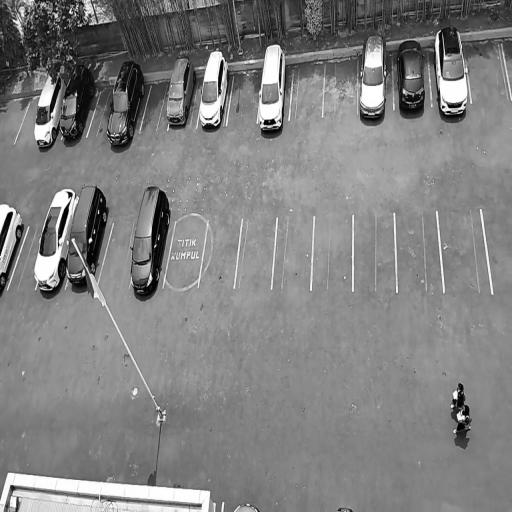Car: (30, 187, 80, 298), (64, 181, 113, 292), (128, 183, 174, 301), (102, 60, 150, 149), (432, 24, 471, 121), (57, 60, 99, 145), (256, 41, 290, 137), (30, 69, 68, 152), (198, 47, 233, 131), (358, 30, 389, 123), (395, 34, 429, 118), (162, 56, 200, 130), (0, 200, 27, 302), (232, 501, 262, 512)
Space Available: (438, 209, 491, 292), (395, 210, 443, 291), (354, 212, 396, 291), (272, 216, 314, 289), (163, 220, 208, 288), (234, 217, 277, 288), (198, 219, 242, 288), (312, 215, 352, 289), (465, 38, 511, 102), (482, 205, 512, 296), (98, 222, 136, 285), (8, 226, 42, 290), (290, 60, 325, 121), (323, 56, 358, 116), (227, 69, 262, 125), (87, 84, 115, 140), (140, 79, 170, 131), (13, 94, 40, 146), (502, 37, 512, 99)
